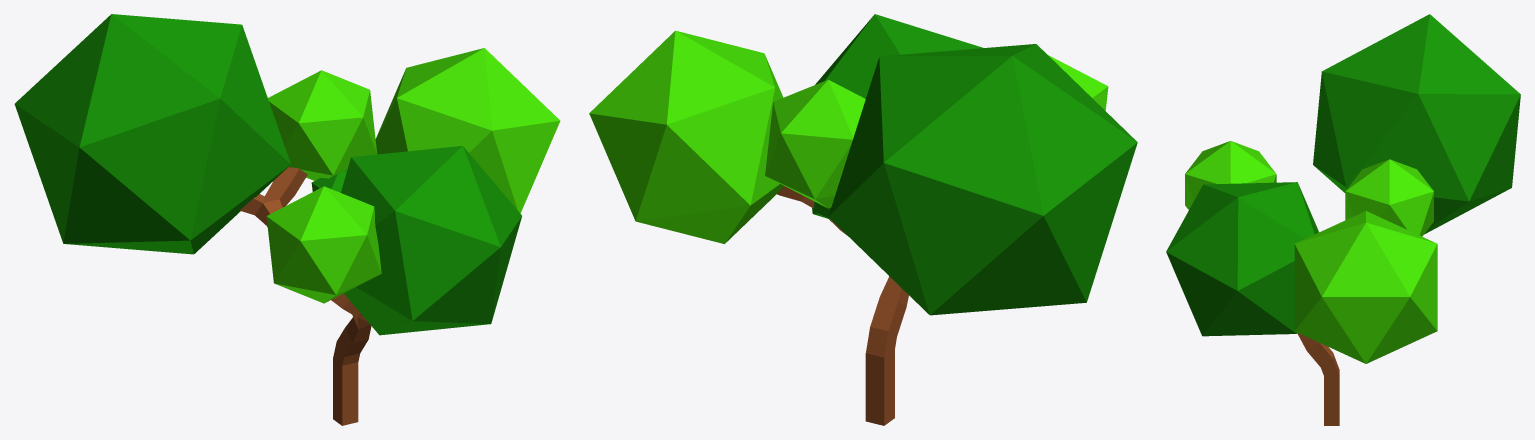
The model's file is FinalTree.fbx.
3 views of the same model, side by side, from view 1: azimuth 30°, elevation 25°; view 2: azimuth 150°, elevation 25°; view 3: azimuth 270°, elevation 25° (orthographic). The views are drawn at different scales.
Parts seen in each view (by area): view 1: Cube; view 2: Cube; view 3: Cube.
Boxes of the visible parts, left/top/right/bottom form: Cube: left=14, top=14, right=560, bottom=425; Cube: left=589, top=14, right=1137, bottom=425; Cube: left=1166, top=14, right=1520, bottom=425.
Bounding box in the file's own units: 1404 × 1197 × 1140.
